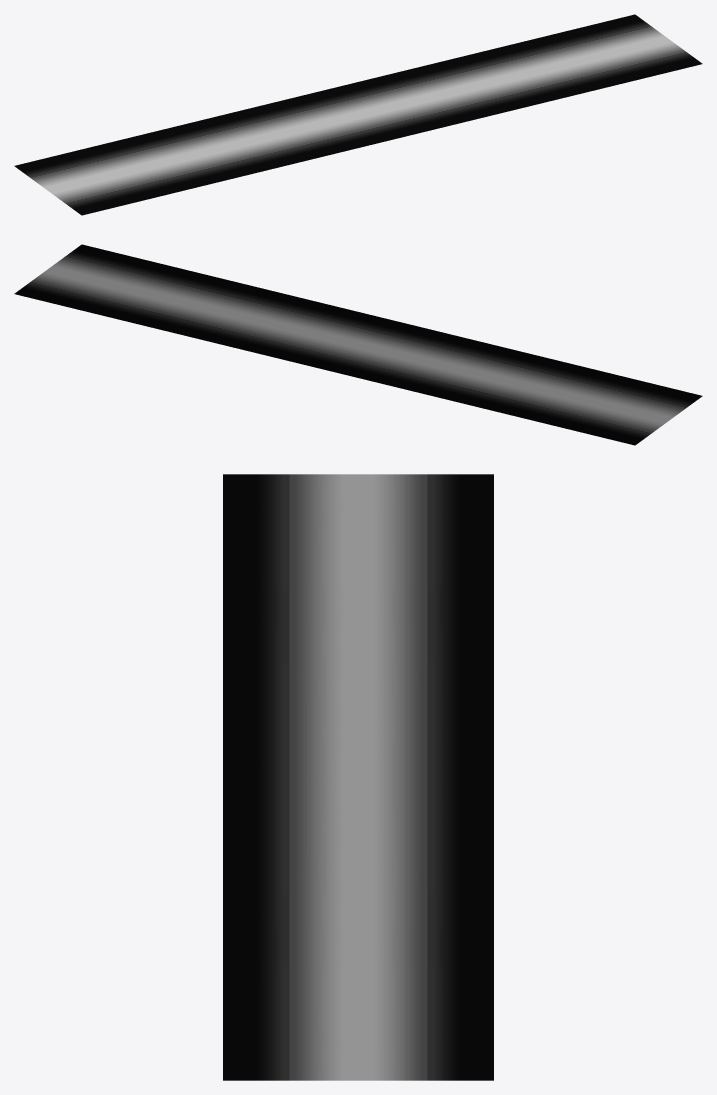
File: pb_forcefield_glow_warden.glb
The picture shows the model from 3 angles, top to bottom: view 1: azimuth 30°, elevation 25°; view 2: azimuth 150°, elevation 25°; view 3: azimuth 270°, elevation 25°; orthographic projection. The views are drawn at different scales.
Visible parts, largest first — view 1: pb_forcefield_glow_warden_0; view 2: pb_forcefield_glow_warden_0; view 3: pb_forcefield_glow_warden_0.
Part boxes in pixels (x1,y1,x2,y2): pb_forcefield_glow_warden_0: (14,14,702,215); pb_forcefield_glow_warden_0: (14,244,702,445); pb_forcefield_glow_warden_0: (223,474,493,1080).
Size of the model in its own units: 818 by 0 by 155.
Materials: 1 (1 with a texture image).
